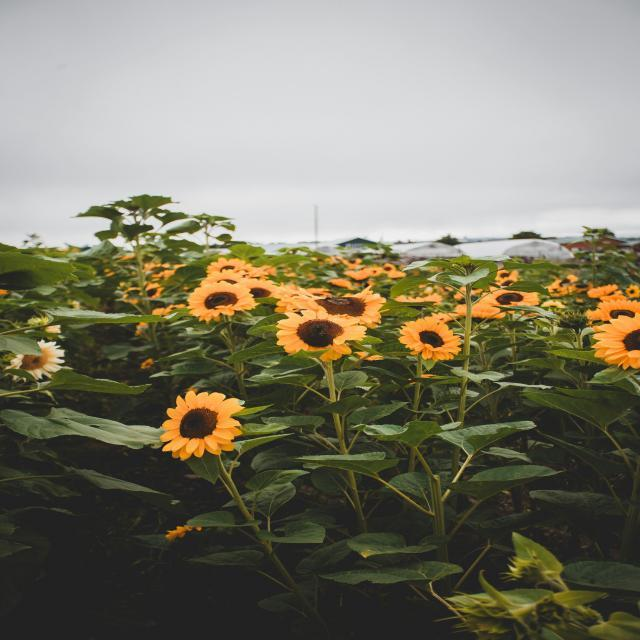sunflower: (159, 390, 245, 460), (274, 307, 368, 362), (300, 286, 386, 328), (186, 280, 258, 324), (397, 316, 462, 362), (590, 314, 640, 371), (8, 339, 66, 381), (478, 286, 540, 316), (274, 282, 330, 314), (586, 298, 640, 322), (205, 257, 253, 278), (454, 302, 506, 320), (238, 278, 278, 299), (200, 270, 244, 286), (27, 314, 62, 334), (394, 292, 442, 306), (438, 284, 466, 302), (550, 274, 578, 290), (142, 262, 170, 278), (140, 282, 166, 299), (586, 284, 618, 297), (490, 278, 518, 292), (494, 268, 520, 282), (343, 268, 372, 280), (305, 288, 333, 300), (123, 287, 144, 303), (238, 267, 268, 278), (164, 304, 188, 317), (354, 351, 384, 361), (548, 285, 570, 298), (328, 278, 353, 289), (431, 312, 458, 322), (540, 300, 566, 310), (453, 292, 479, 302), (598, 293, 625, 302), (624, 284, 640, 299), (567, 282, 591, 292), (152, 306, 170, 318), (462, 284, 482, 294), (158, 270, 176, 280), (260, 265, 276, 276), (343, 258, 362, 266), (367, 267, 382, 277), (382, 262, 396, 272), (140, 358, 154, 368), (388, 271, 406, 278), (174, 264, 184, 270)
